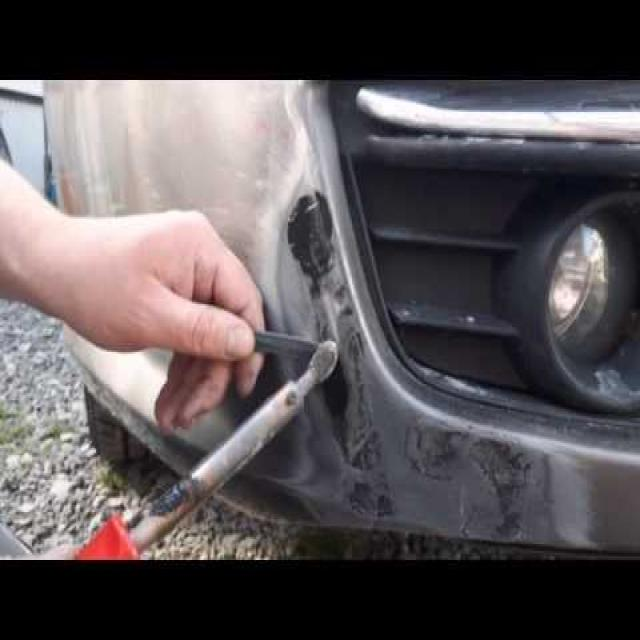scratch: (283, 187, 603, 550)
